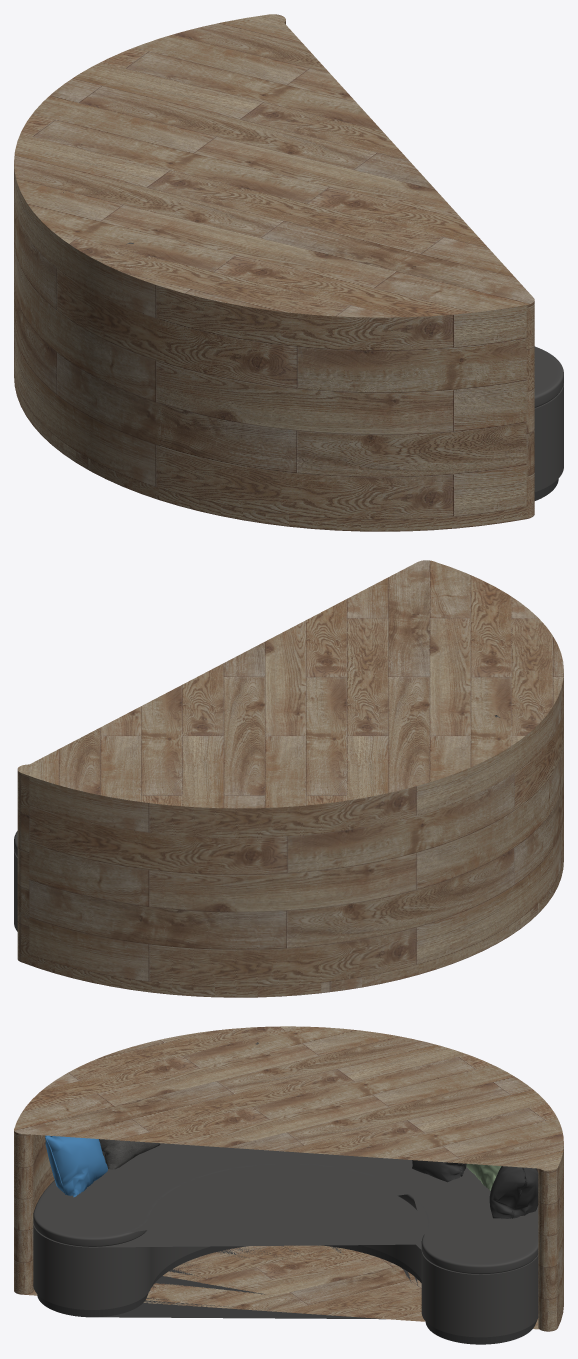
3 views of the same model, one above another, from view 1: azimuth 30°, elevation 25°; view 2: azimuth 150°, elevation 25°; view 3: azimuth 270°, elevation 25° (orthographic). The views are drawn at different scales.
Parts seen in each view (by area): view 1: Group2, Group1, Group3; view 2: Group2; view 3: Group2, Group3, Group1, Mesh5, Mesh9, Mesh7, Mesh4, Mesh6.
Boxes of the visible parts, x1=… form: Group2: x1=14, y1=14, x2=534, y2=531; Group1: x1=534, y1=383, x2=563, y2=500; Group3: x1=534, y1=346, x2=563, y2=407; Group2: x1=17, y1=560, x2=563, y2=997; Group2: x1=14, y1=1026, x2=563, y2=1331; Group3: x1=33, y1=1143, x2=538, y2=1274; Group1: x1=33, y1=1196, x2=538, y2=1344; Mesh5: x1=45, y1=1135, x2=107, y2=1197; Mesh9: x1=489, y1=1166, x2=538, y2=1219; Mesh7: x1=99, y1=1042, x2=360, y2=1169; Mesh4: x1=412, y1=1160, x2=466, y2=1182; Mesh6: x1=466, y1=1163, x2=501, y2=1190.
Size of the model in its own units: 1910 by 903 by 2791.
